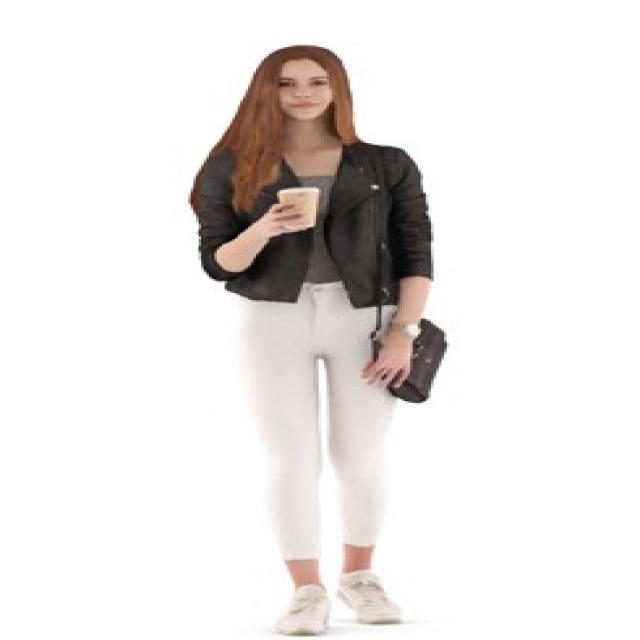standing: (180, 42, 446, 640)
